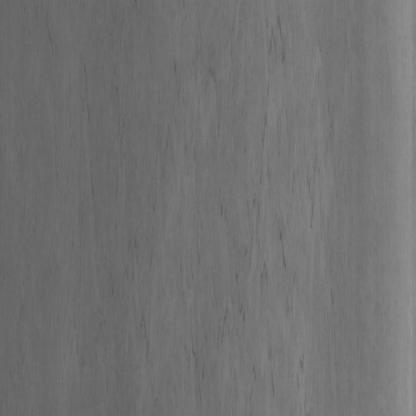silk_spot: (110, 7, 341, 392)
